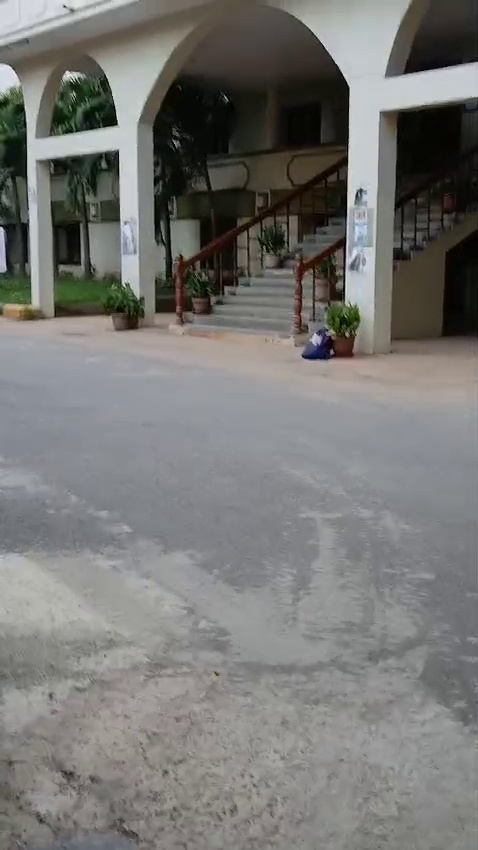bag: (300, 322, 338, 365)
